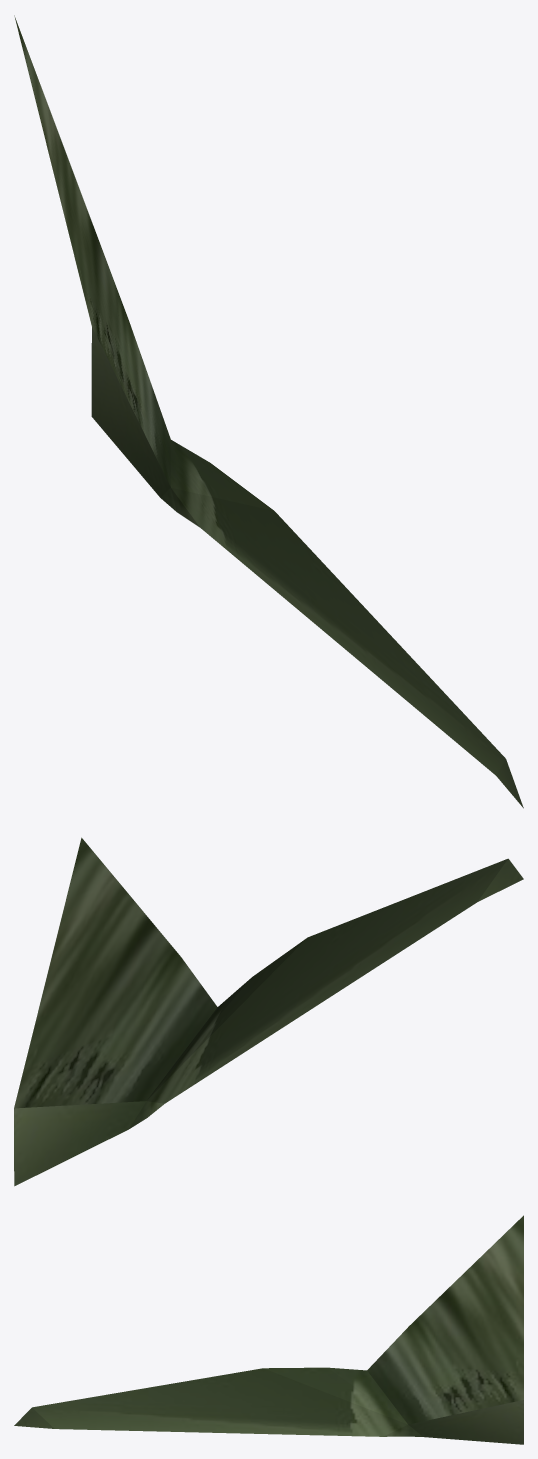
3 views of the same model, one above another, from view 1: azimuth 30°, elevation 25°; view 2: azimuth 150°, elevation 25°; view 3: azimuth 270°, elevation 25° (orthographic). The views are drawn at different scales.
Size of the model in its own units: 0.2436 by 1.26 by 2.76.
1 material, 1 textured.
